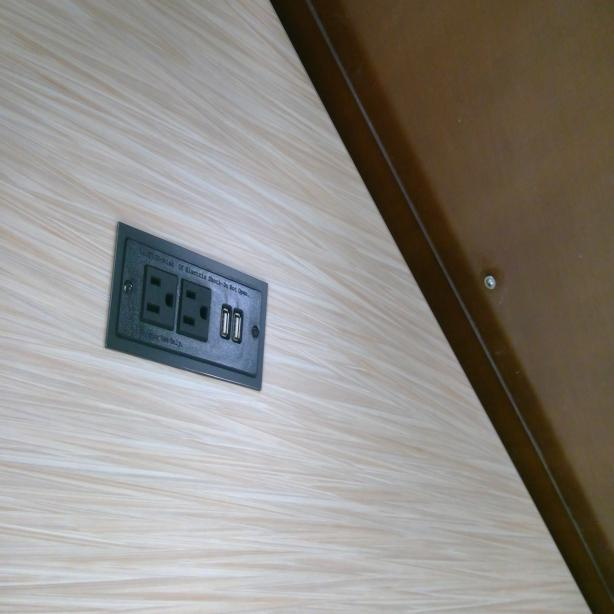typeb: (142, 267, 177, 330), (179, 282, 212, 336)
